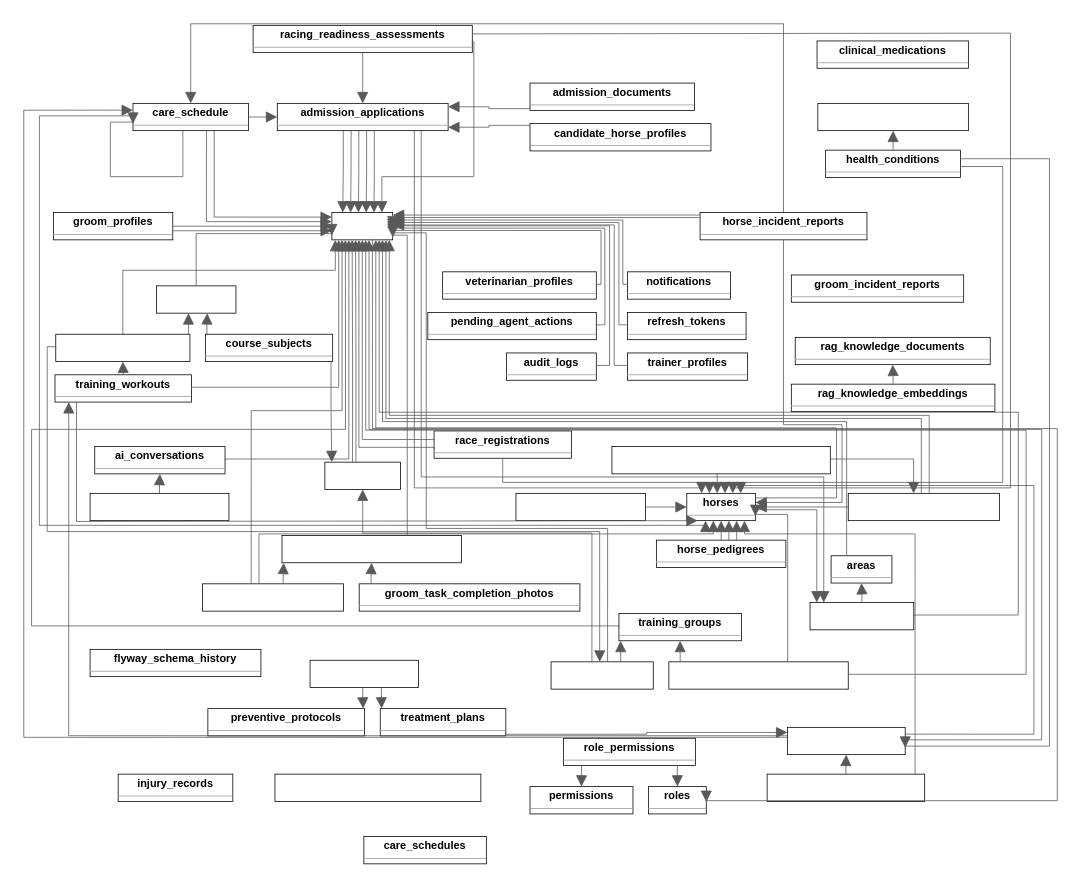
Some shapes in this 1082 by 877 pixel diagram are drawn without their labels. Each missing label, with the centre of its shape:
ai_chat_messages: point 159,507
courses: point 362,475
financial_reports: point 580,507
groom_daily_tasks: point 273,597
groom_task_completions: point 371,549
group_plans: point 601,675
health_records: point 846,741
horse_body_regions: point 892,117
horse_edit_request_documents: point 720,460
horse_edit_requests: point 923,507
horse_health_metrics: point 845,787
medical_symptom_mappings: point 377,787
prescriptions: point 363,673
stable_stalls: point 861,616
subjects: point 196,299
training_group_members: point 758,675
training_sessions: point 122,347
users: point 362,226
